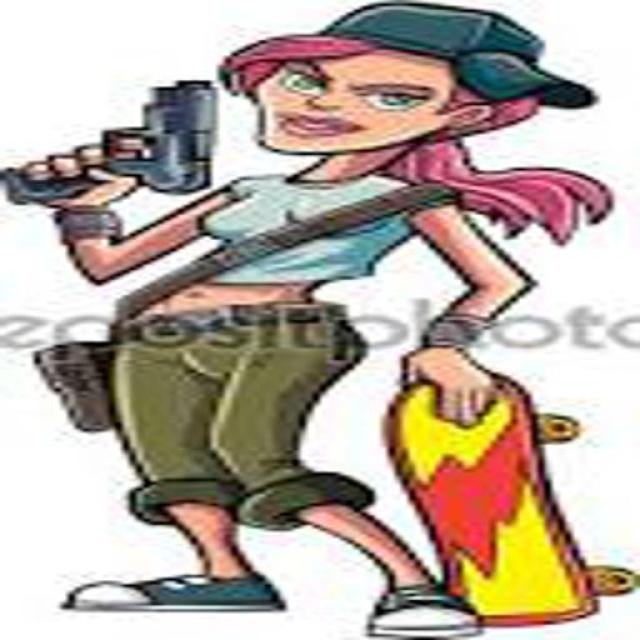pistol: (6, 78, 210, 199)
